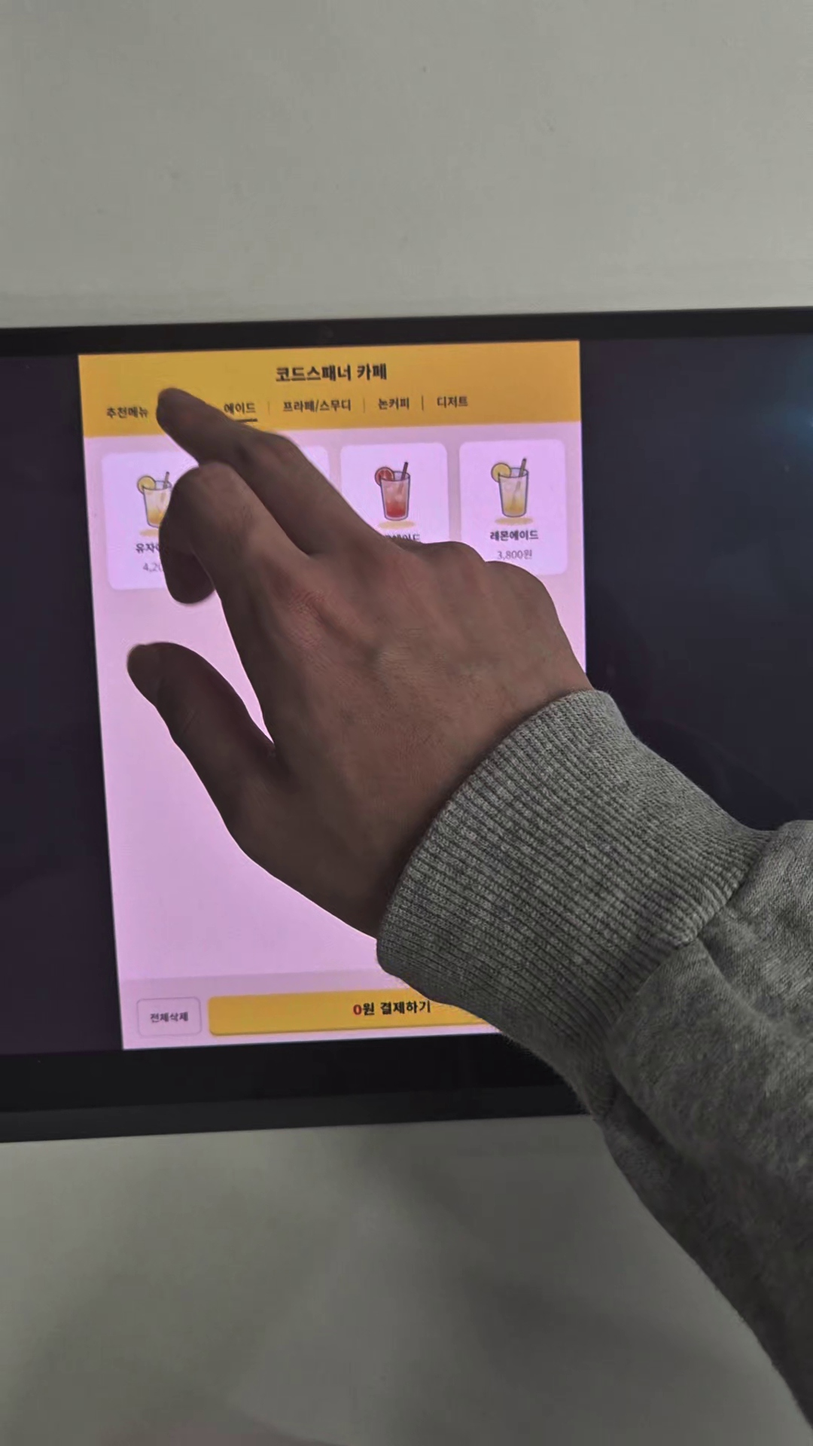action_button: (209, 983, 573, 1036), (138, 998, 200, 1034)
category_tab: (282, 397, 357, 418), (103, 400, 150, 424), (433, 392, 474, 414), (219, 395, 258, 417), (373, 393, 413, 414)
menu_back: (101, 451, 213, 588), (459, 441, 571, 577), (338, 442, 450, 578)
menu_name: (487, 528, 541, 543)
menu_price: (491, 548, 536, 563)
